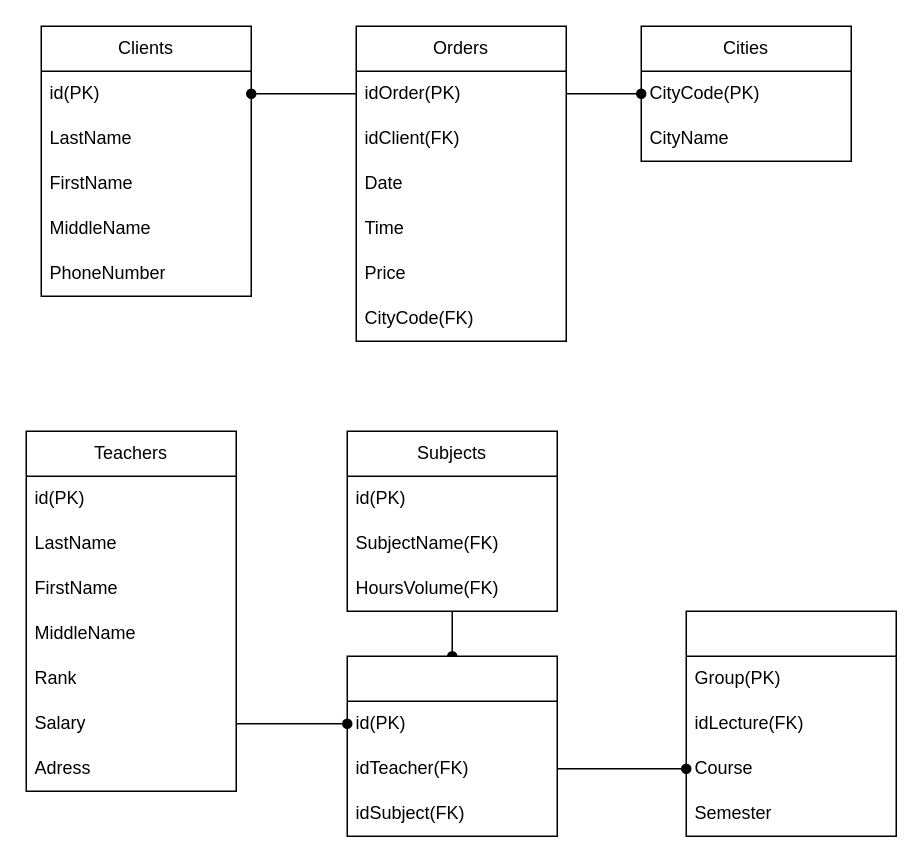
The diagram is 923 pixels wide and 863 high, and some of its shapes have lost their labels. Each missing label, with the box of its shape:
Groups: (685, 610, 896, 836)
Lectures: (346, 655, 557, 836)
